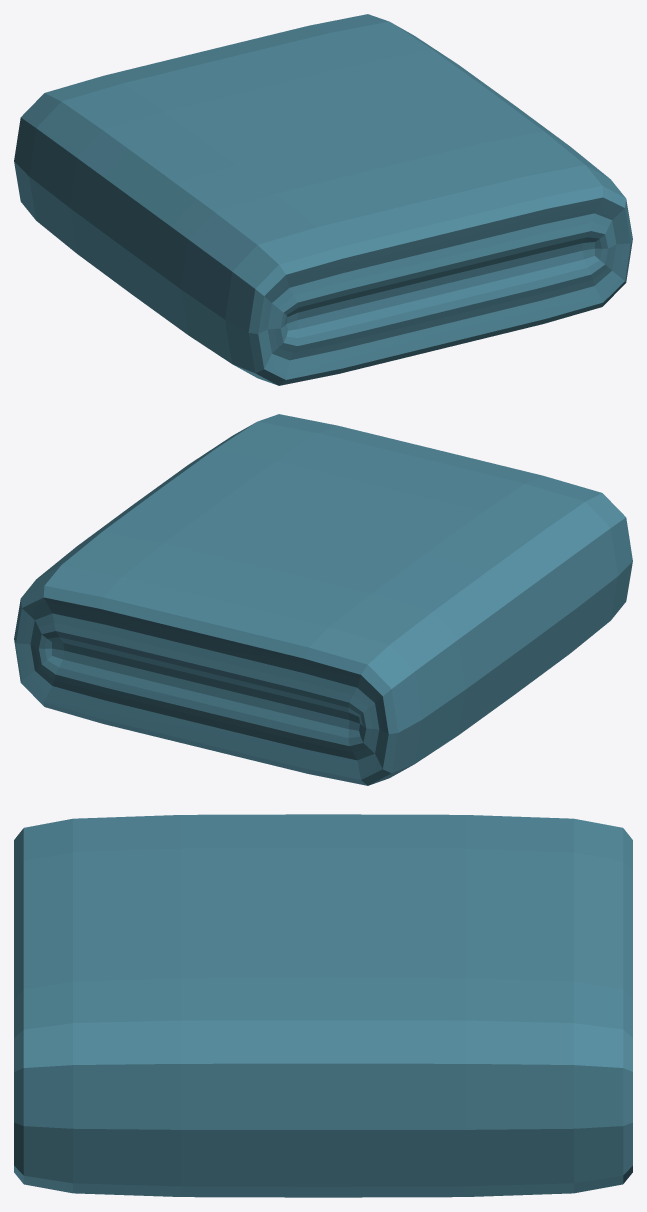
File: Towel_04.fbx
The picture shows the model from 3 angles, top to bottom: view 1: azimuth 30°, elevation 25°; view 2: azimuth 150°, elevation 25°; view 3: azimuth 270°, elevation 25°; orthographic projection. The views are drawn at different scales.
Visible parts, largest first — view 1: Towel_04; view 2: Towel_04; view 3: Towel_04.
Boxes of the visible parts, x1,y1,x2,y2 form: Towel_04: (14, 14, 632, 385); Towel_04: (14, 414, 632, 785); Towel_04: (14, 814, 632, 1197).
Size of the model in its own units: 22.53 by 7.88 by 23.8.
